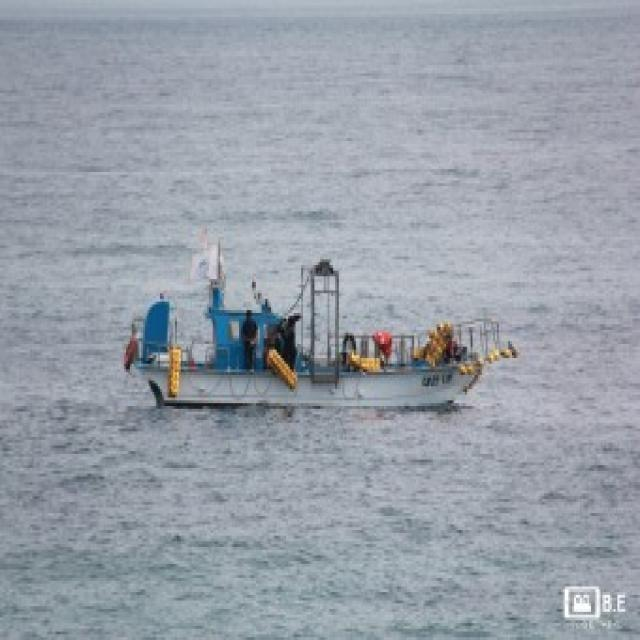Ship: (118, 221, 525, 430)
